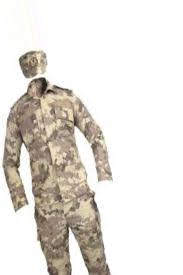uniform: (2, 47, 122, 269)
